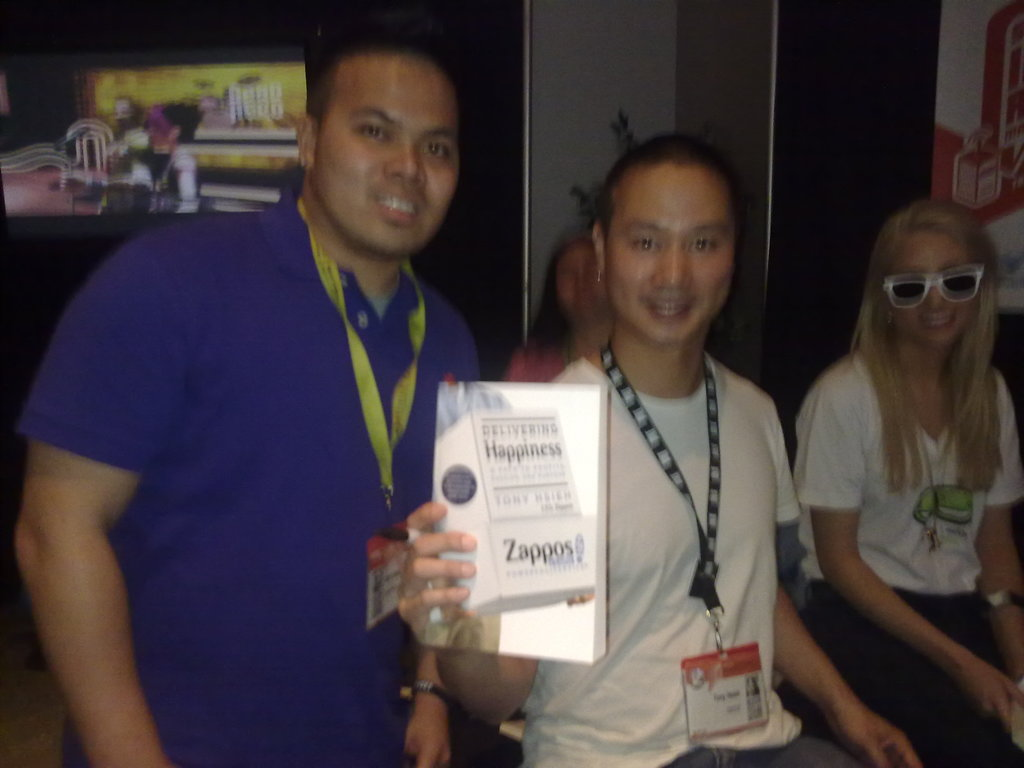Human-face: (316, 58, 461, 254), (609, 168, 733, 339), (896, 233, 975, 351), (555, 245, 597, 315)
